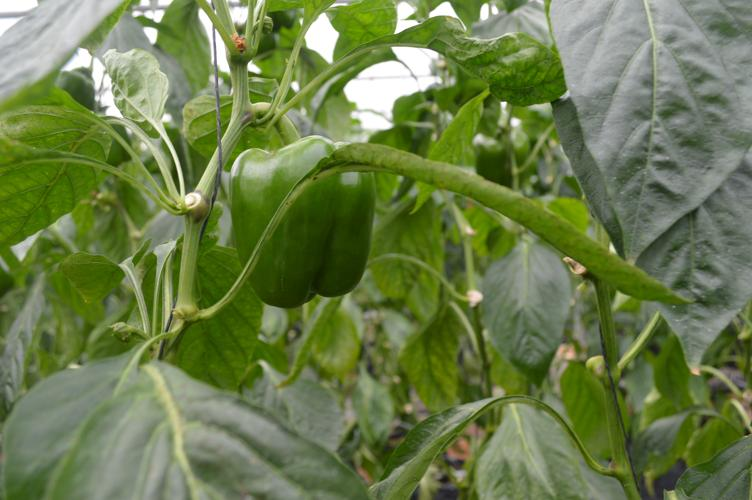BellPepper: (235, 138, 382, 301)
